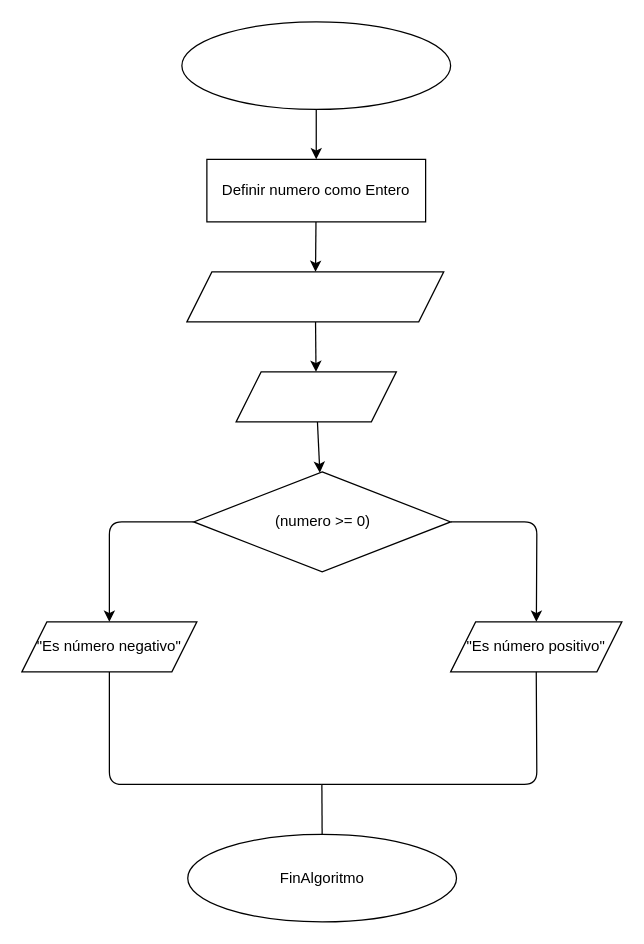
Some shapes in this 644 by 944 pixel diagram are drawn without their labels. Here are the shapes that lost their labels. From the top down, the box of each, then its label:
(181, 21, 451, 109): Algoritmo Ejercicio1
(186, 271, 444, 322): "Ingrese un número positivo o negativo: ";
(235, 371, 396, 422): numero
